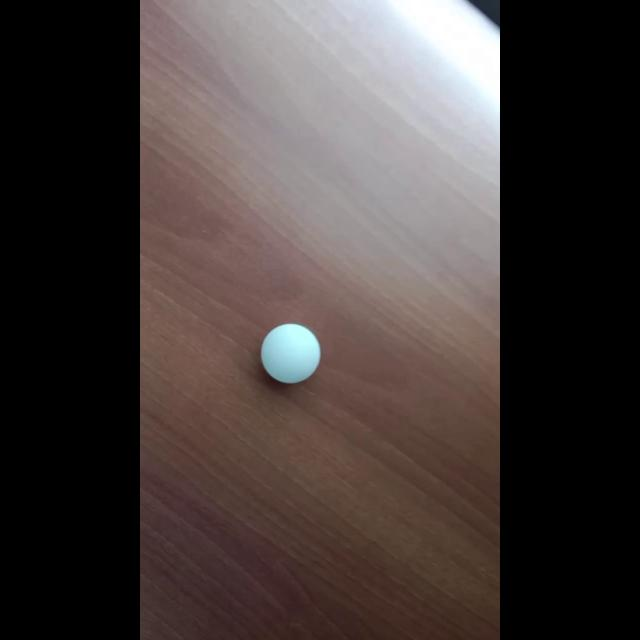white ball: (260, 322, 320, 384)
